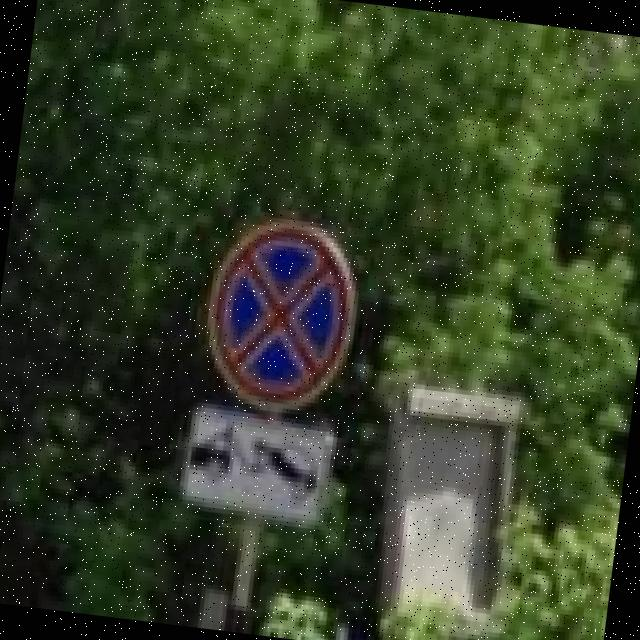Zakaz zatrzymywania sie: (202, 212, 362, 420)
